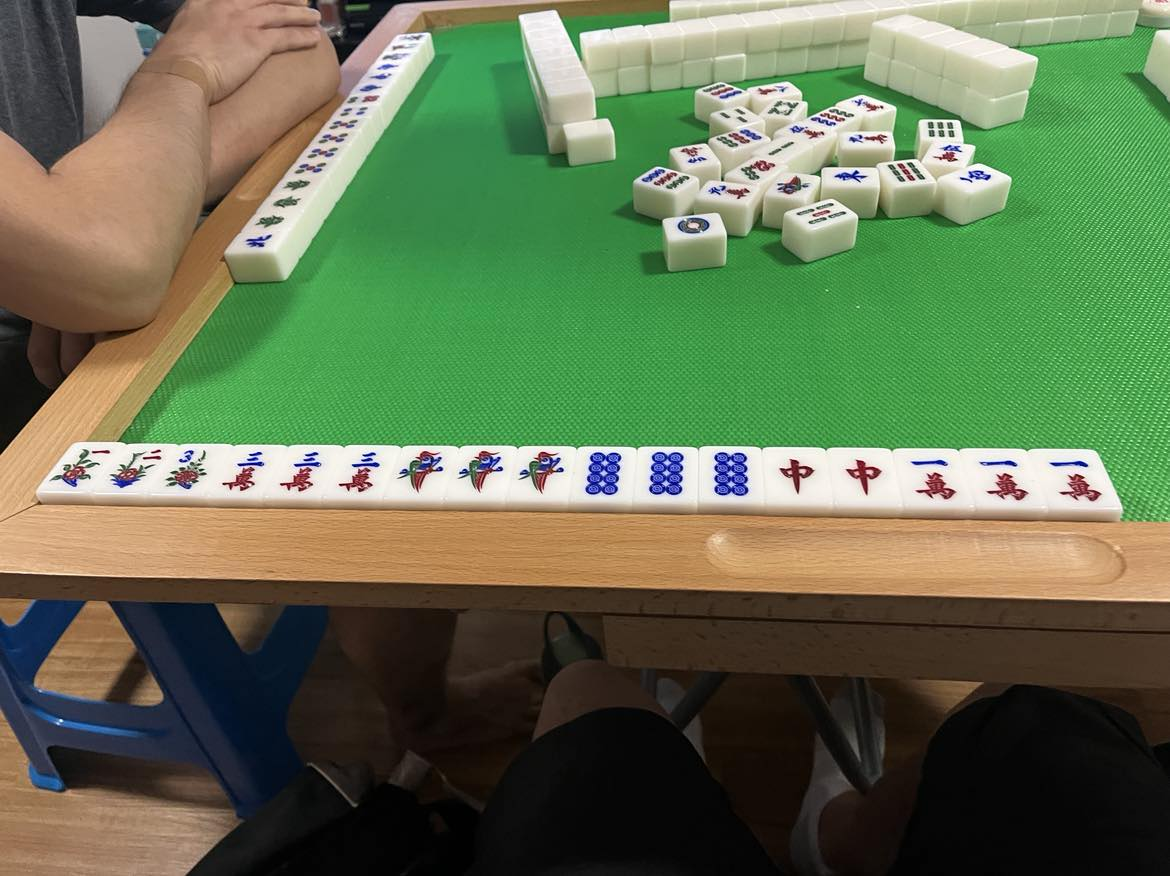bamboo-one: (457, 444, 508, 502), (517, 448, 568, 504), (396, 446, 446, 502)
character-one: (972, 452, 1035, 507), (903, 450, 962, 506), (1047, 456, 1106, 510)
character-three: (336, 447, 384, 501), (281, 444, 327, 500), (220, 447, 268, 498)
circle-eight: (641, 448, 692, 506), (705, 449, 755, 505), (579, 447, 625, 505)
flower-blue_three: (167, 445, 213, 498)
flower-red_one: (53, 442, 111, 494)
flower-red_two: (113, 446, 164, 497)
honor-red_dragon: (768, 449, 820, 506), (838, 452, 888, 505)
